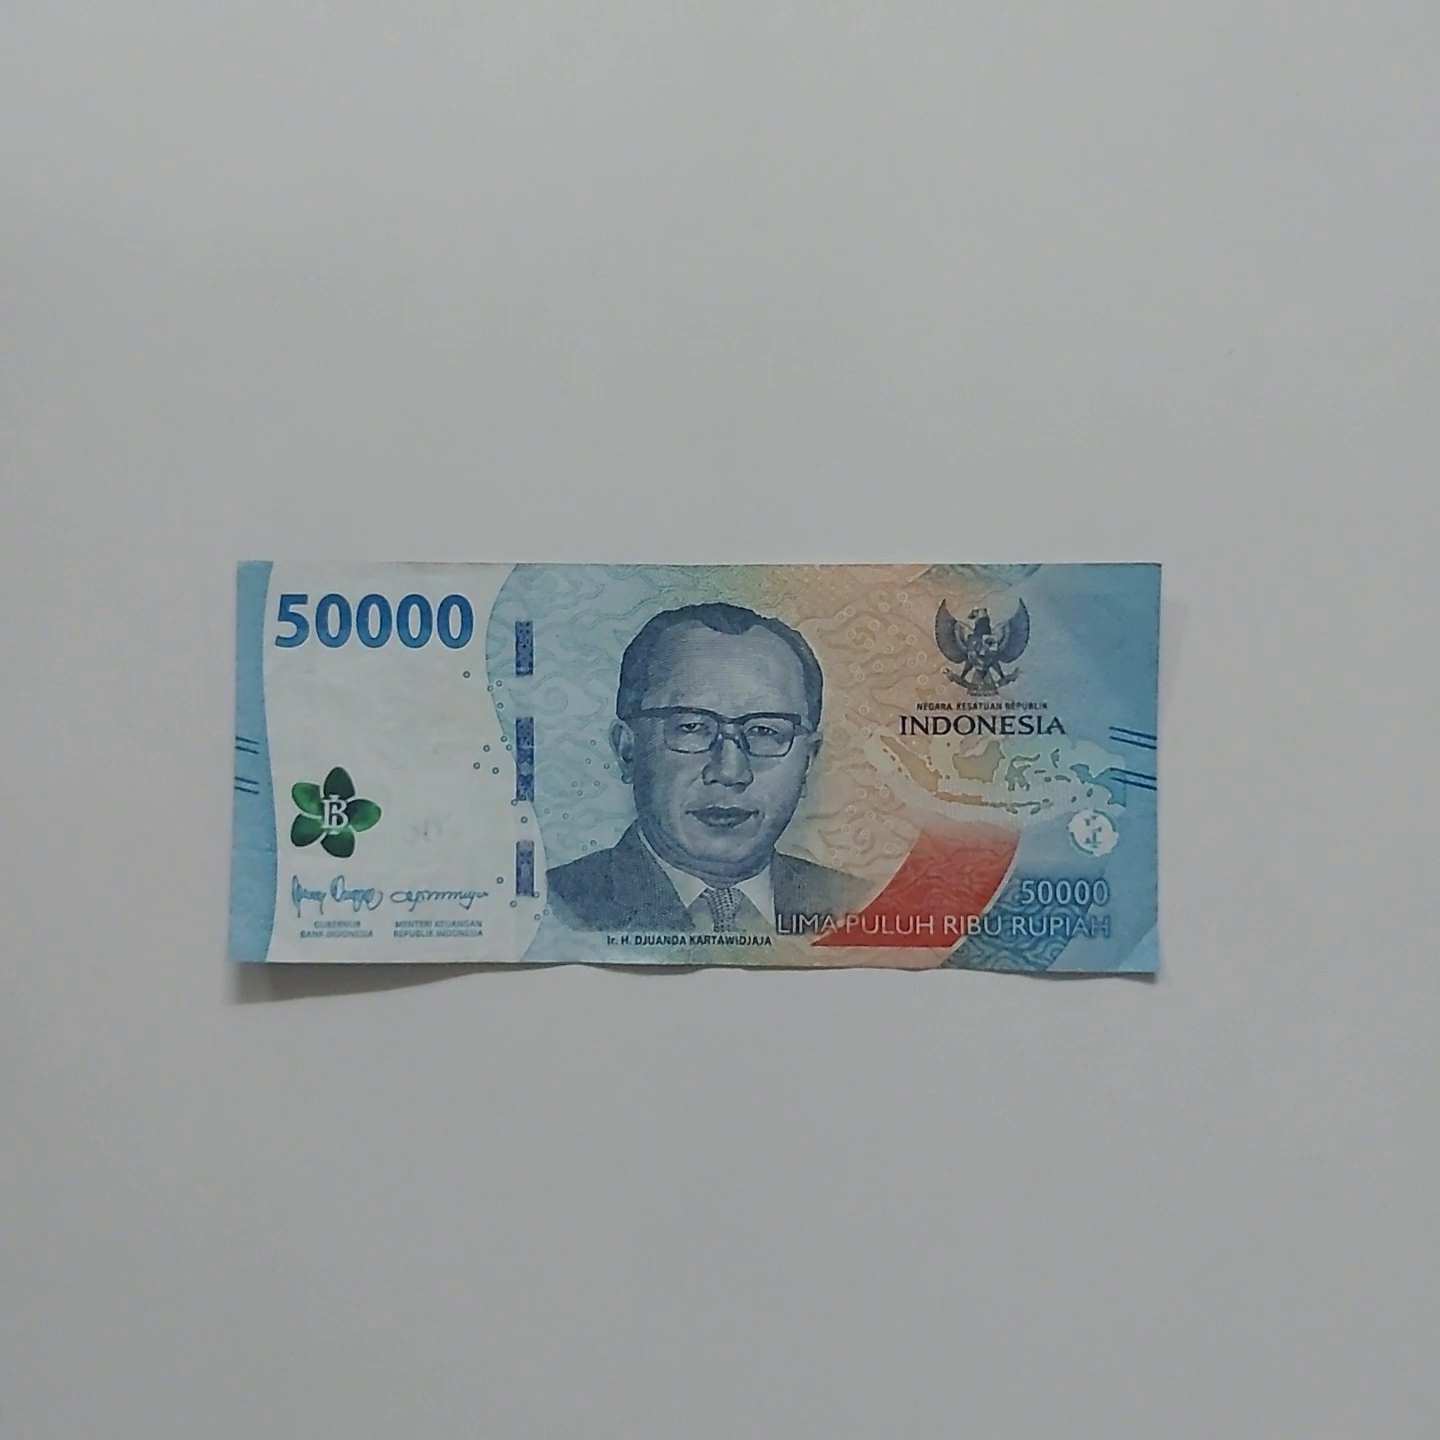50k: (231, 566, 1154, 969)
